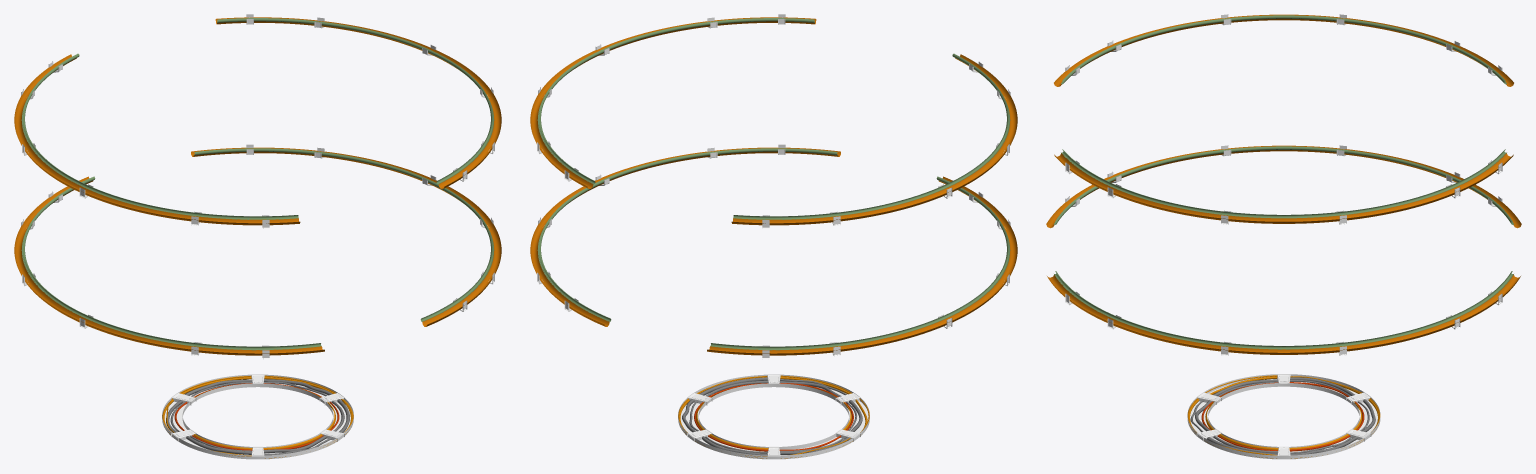
3 renders of one model, left to right at view 1: azimuth 30°, elevation 25°; view 2: azimuth 150°, elevation 25°; view 3: azimuth 270°, elevation 25°, orthographic.
Parts seen in each view (by area): view 1: SM_H_Building_FutureTech_HOrange_01_InterWall_05E; view 2: SM_H_Building_FutureTech_HOrange_01_InterWall_05E; view 3: SM_H_Building_FutureTech_HOrange_01_InterWall_05E.
Part boxes in pixels (x1=…): SM_H_Building_FutureTech_HOrange_01_InterWall_05E: x1=14, y1=14, x2=501, y2=459; SM_H_Building_FutureTech_HOrange_01_InterWall_05E: x1=530, y1=14, x2=1017, y2=459; SM_H_Building_FutureTech_HOrange_01_InterWall_05E: x1=1046, y1=14, x2=1521, y2=459.
Bounding box in the file's own units: 783 × 807 × 552.
